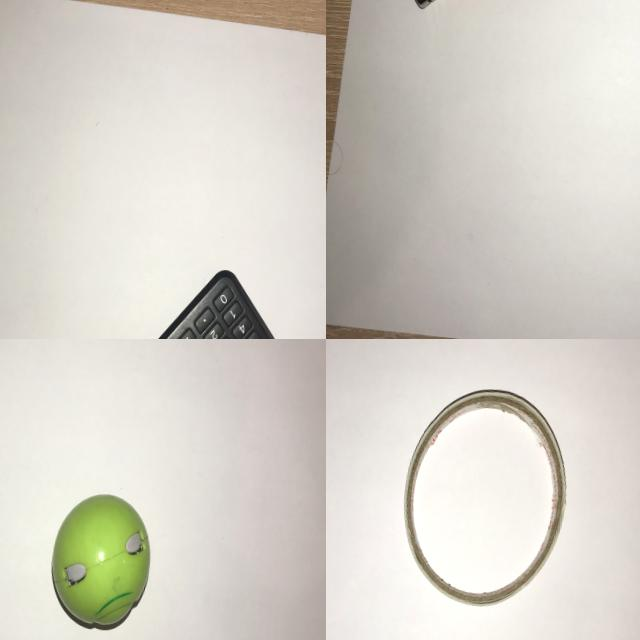calculator: (117, 252, 326, 339)
scotch: (384, 372, 582, 620)
toy: (37, 480, 164, 640)
